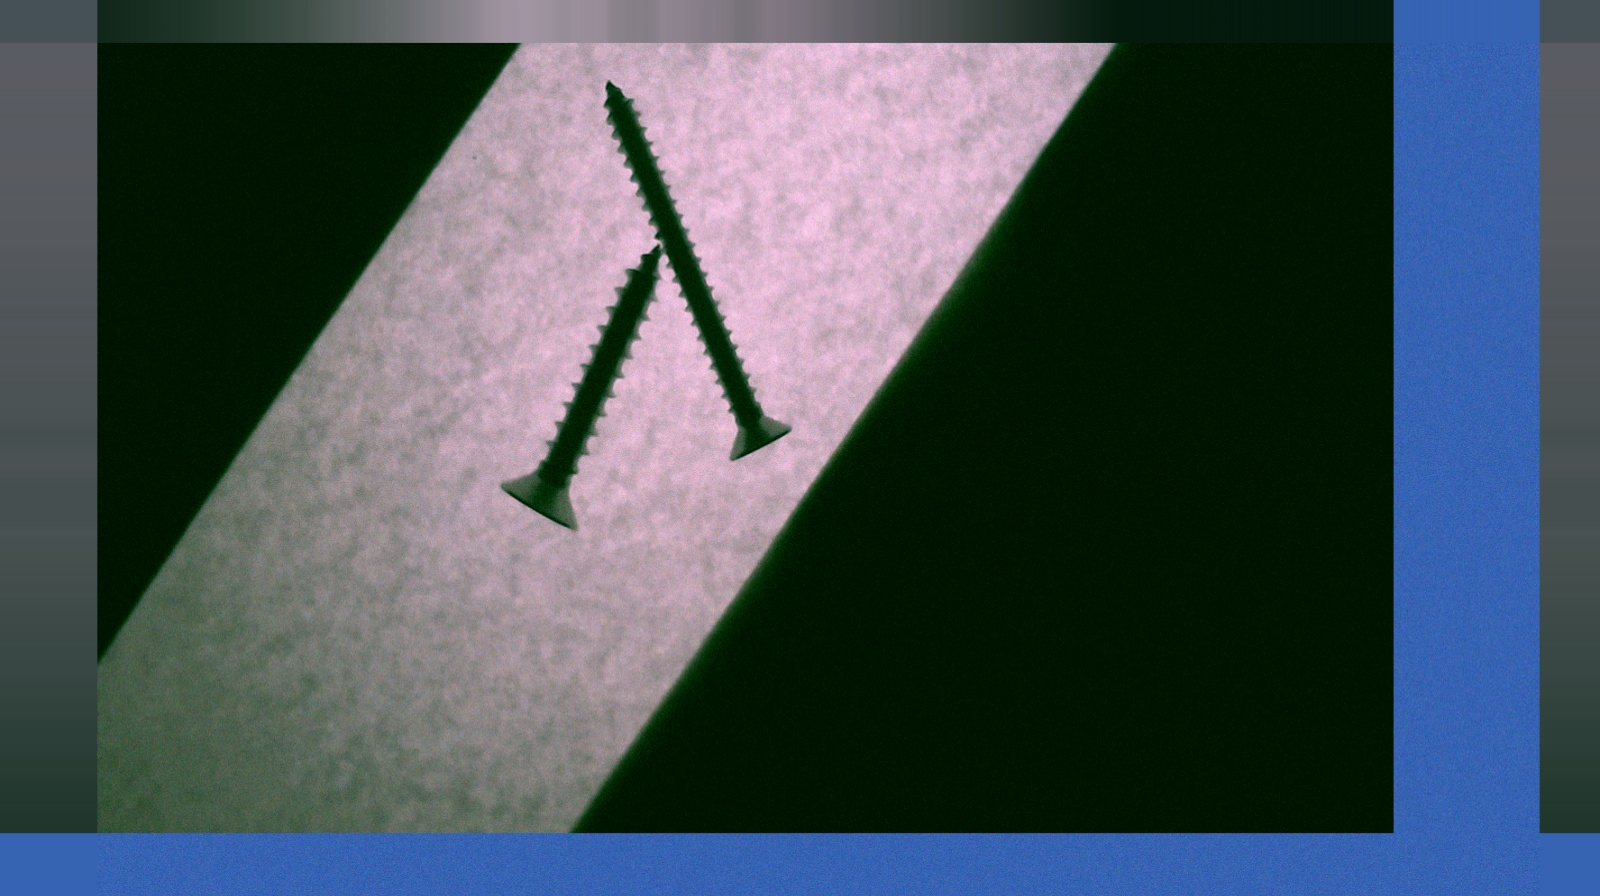S001: (495, 244, 670, 534)
S002: (592, 77, 792, 467)
